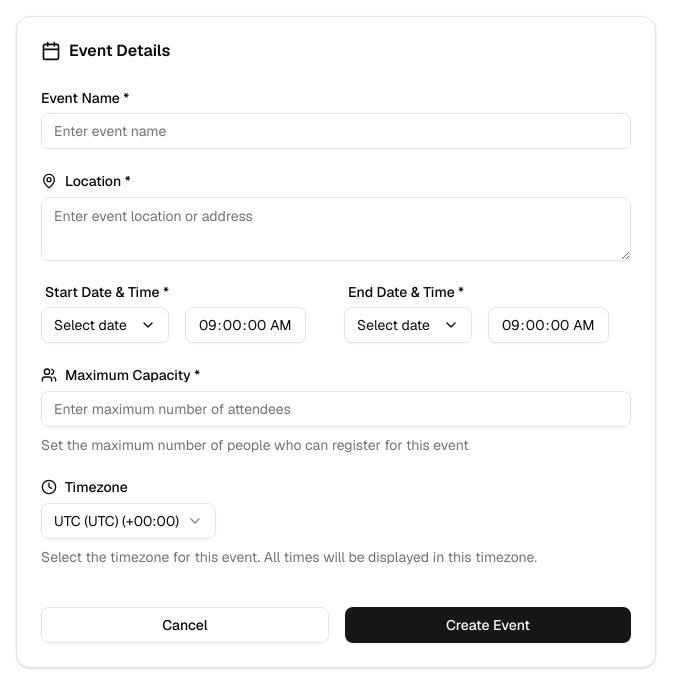
Test case: CreateEventForm › validates required fields
(page scrolled)
Click the button "Create Event".
click(488, 625)  # box [345,607,631,643]
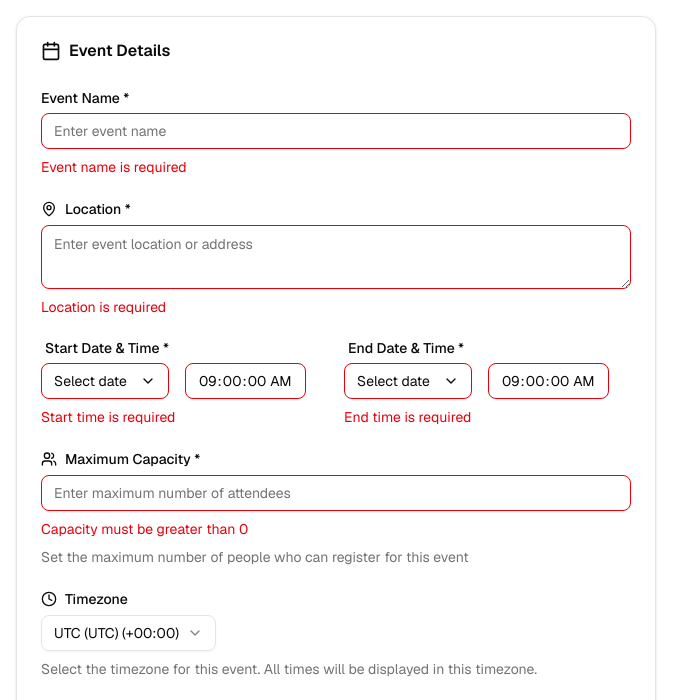
Expected: the text "Event name is required" is shown, [41,158,187,176]
Expected: the text "Location is required" is shown, [41,298,166,316]
Expected: the text "Start time is required" is shown, [41,408,175,426]
